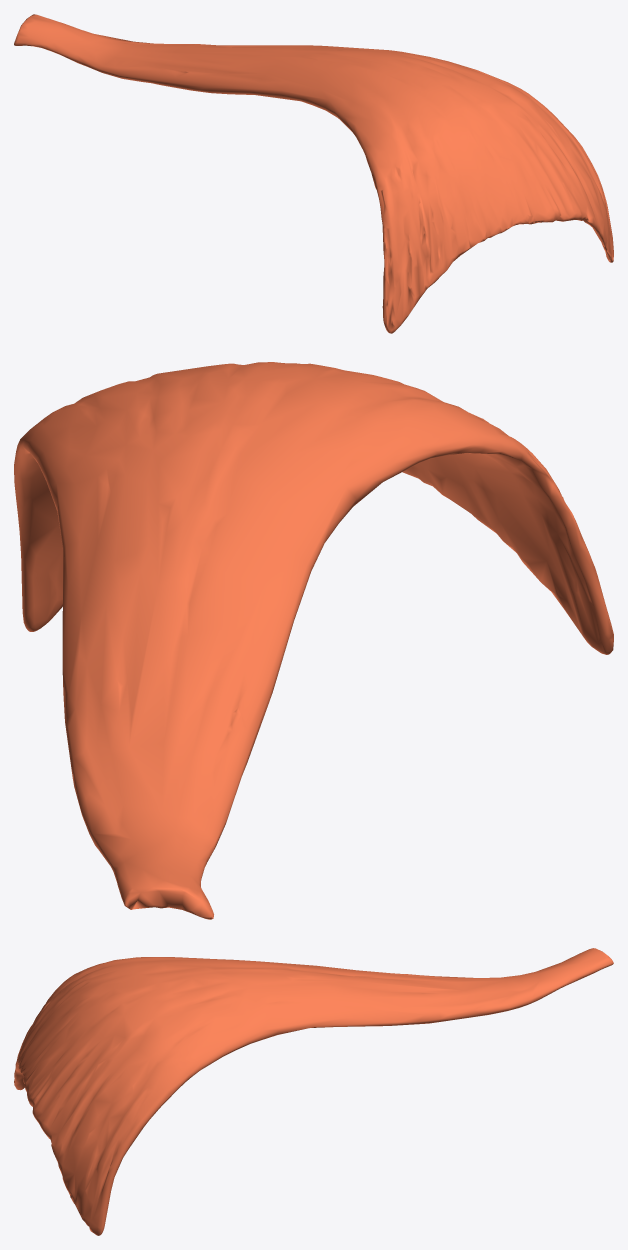
File: Levator_palpebrae_superioris.l_grp1.011.glb
3 views of the same model, one above another, from view 1: azimuth 30°, elevation 25°; view 2: azimuth 150°, elevation 25°; view 3: azimuth 270°, elevation 25° (orthographic). The views are drawn at different scales.
Visible parts, largest first — view 1: Levator_palpebrae_superioris.l_grp1.011; view 2: Levator_palpebrae_superioris.l_grp1.011; view 3: Levator_palpebrae_superioris.l_grp1.011.
Boxes of the visible parts, bbox=[...] form: Levator_palpebrae_superioris.l_grp1.011: bbox=[14, 14, 613, 333]; Levator_palpebrae_superioris.l_grp1.011: bbox=[14, 362, 613, 919]; Levator_palpebrae_superioris.l_grp1.011: bbox=[14, 948, 613, 1235].
Size of the model in its own units: 0.0301 by 0.0159 by 0.046.
